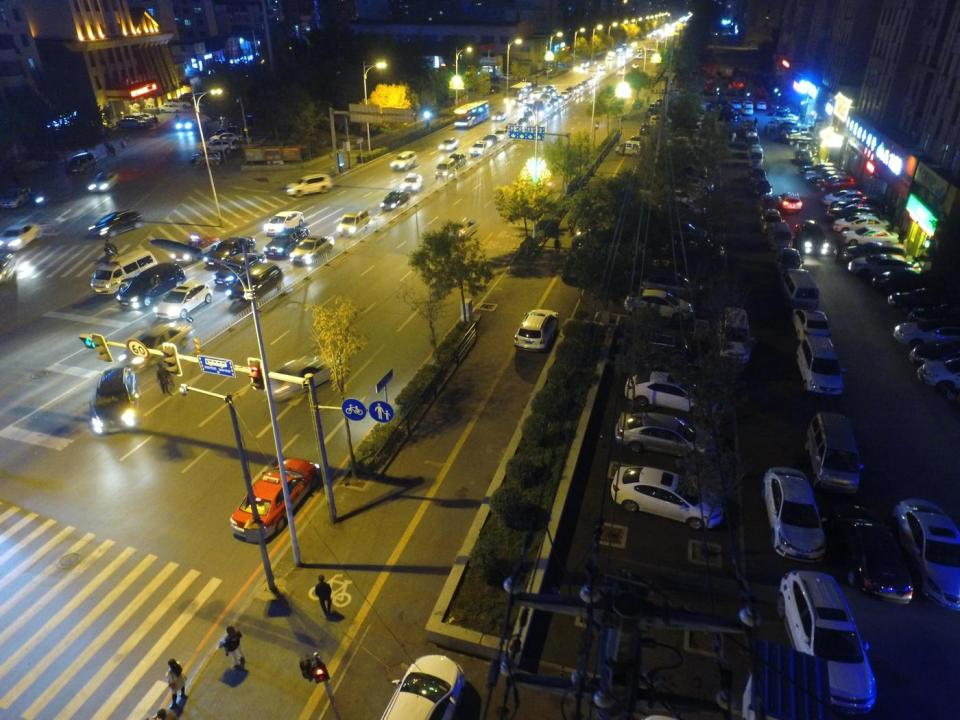bus: (452, 99, 489, 127)
car: (766, 565, 877, 720), (828, 499, 918, 606), (896, 492, 960, 613), (609, 462, 724, 529), (230, 457, 318, 542), (757, 463, 828, 563), (376, 644, 466, 720), (613, 410, 720, 458), (625, 361, 715, 410), (253, 355, 349, 398), (88, 367, 142, 432), (119, 261, 188, 310), (627, 265, 705, 306), (122, 319, 191, 364), (718, 300, 759, 369), (628, 327, 706, 362), (225, 261, 282, 305), (620, 286, 695, 319), (155, 280, 214, 319), (868, 264, 946, 292), (846, 252, 922, 280), (668, 232, 730, 266), (516, 306, 559, 354), (885, 282, 953, 310), (893, 318, 960, 346), (86, 210, 141, 240), (203, 234, 256, 265), (789, 306, 833, 343), (211, 253, 265, 283), (914, 357, 960, 392), (170, 234, 223, 263), (908, 338, 960, 366), (906, 300, 960, 326), (837, 226, 903, 247), (843, 242, 909, 263), (657, 219, 714, 243), (1, 220, 42, 253), (670, 126, 722, 152), (292, 235, 334, 266), (794, 219, 830, 255), (263, 227, 309, 255), (284, 174, 335, 198), (265, 208, 309, 234), (660, 199, 712, 221), (825, 203, 884, 222), (831, 214, 890, 233), (823, 184, 871, 206), (442, 214, 480, 241), (662, 191, 702, 214), (774, 246, 804, 276), (668, 183, 710, 204), (664, 148, 708, 168), (666, 146, 710, 166), (668, 162, 710, 182), (674, 175, 715, 195), (814, 174, 858, 192), (83, 172, 120, 193), (377, 189, 412, 211), (0, 186, 28, 212), (766, 222, 794, 248), (798, 161, 848, 175), (754, 193, 781, 217), (782, 130, 820, 147), (389, 151, 417, 173), (804, 166, 848, 180), (832, 198, 878, 211), (777, 192, 804, 214), (398, 173, 426, 193), (809, 171, 852, 184), (205, 141, 240, 155), (760, 210, 782, 230), (750, 176, 772, 196), (448, 150, 469, 170), (190, 149, 222, 162), (113, 118, 147, 130), (779, 121, 812, 133), (794, 150, 816, 168), (708, 111, 738, 124), (436, 136, 460, 152), (467, 140, 488, 158), (126, 112, 152, 126), (210, 133, 238, 146), (216, 125, 244, 138), (176, 117, 198, 133), (122, 114, 150, 125), (772, 114, 800, 125), (131, 112, 156, 124), (649, 113, 672, 126), (769, 106, 793, 118), (158, 103, 184, 114), (701, 100, 718, 116), (482, 134, 500, 148), (166, 98, 191, 108), (492, 128, 511, 141), (749, 166, 765, 181), (716, 104, 736, 115), (490, 109, 507, 120), (638, 122, 651, 136), (179, 94, 199, 103), (487, 84, 502, 96), (740, 104, 753, 117), (549, 97, 565, 107), (630, 136, 646, 146), (748, 143, 761, 155), (549, 88, 560, 102), (744, 127, 758, 138), (670, 86, 684, 97), (183, 91, 202, 99), (727, 99, 742, 109), (747, 136, 760, 147), (542, 85, 555, 95), (487, 74, 500, 84), (504, 123, 520, 131), (522, 112, 536, 121), (505, 70, 519, 79), (539, 93, 550, 104), (646, 107, 658, 117), (744, 119, 754, 131), (517, 118, 530, 127), (756, 101, 767, 110), (743, 100, 754, 109), (560, 90, 570, 99), (580, 61, 590, 70), (532, 90, 542, 99), (654, 96, 663, 106), (543, 66, 552, 75), (500, 72, 509, 80), (596, 65, 605, 72), (631, 63, 640, 70), (649, 103, 657, 110), (619, 54, 626, 60), (635, 54, 642, 60), (652, 47, 660, 52), (646, 46, 652, 52), (606, 55, 613, 60), (618, 70, 625, 75), (660, 39, 664, 43)
van: (804, 409, 866, 494), (793, 337, 847, 398), (93, 250, 159, 298), (777, 265, 822, 310), (338, 207, 373, 238), (502, 79, 535, 105), (69, 152, 100, 174), (616, 142, 646, 159), (434, 159, 458, 178), (781, 124, 809, 139), (749, 148, 765, 168), (532, 100, 545, 116)
